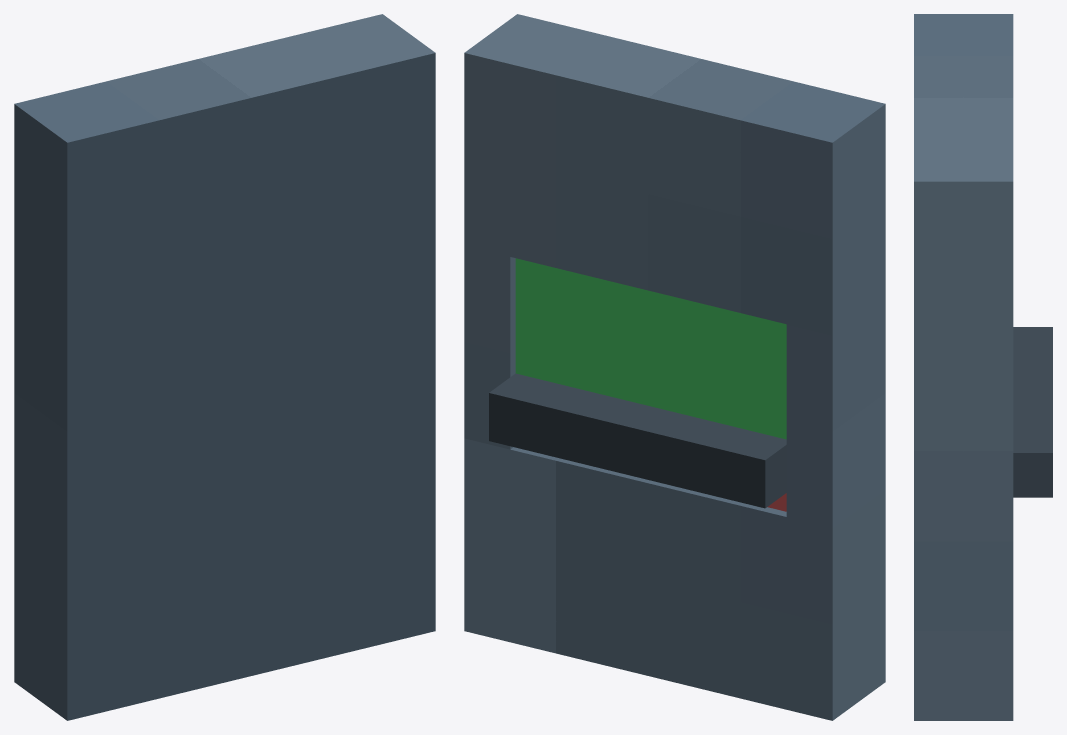
The model's file is Switch.gltf.
3 renders of one model, left to right at view 1: azimuth 30°, elevation 25°; view 2: azimuth 150°, elevation 25°; view 3: azimuth 270°, elevation 25°, orthographic. The views are drawn at different scales.
Visible parts, largest first — view 1: Body; view 2: Body, cuboid; view 3: Body, cuboid.
Boxes of the visible parts, x1,y1,x2,y2 form: Body: (14, 14, 435, 720); Body: (464, 14, 885, 720); cuboid: (489, 258, 786, 511); Body: (914, 14, 1013, 720); cuboid: (1013, 327, 1052, 497).
Bounding box in the file's own units: 0.25 × 0.375 × 0.0875.
1 material, 1 textured.
